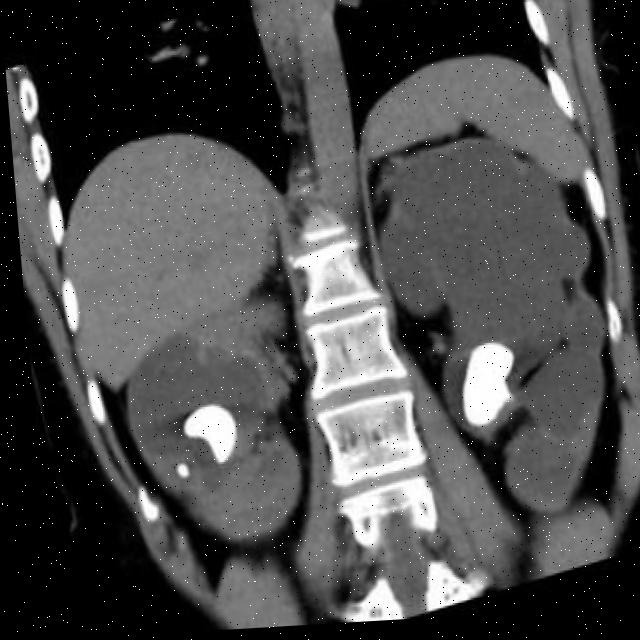Tas_Var: (438, 335, 529, 440), (172, 394, 246, 478), (165, 456, 187, 487)
